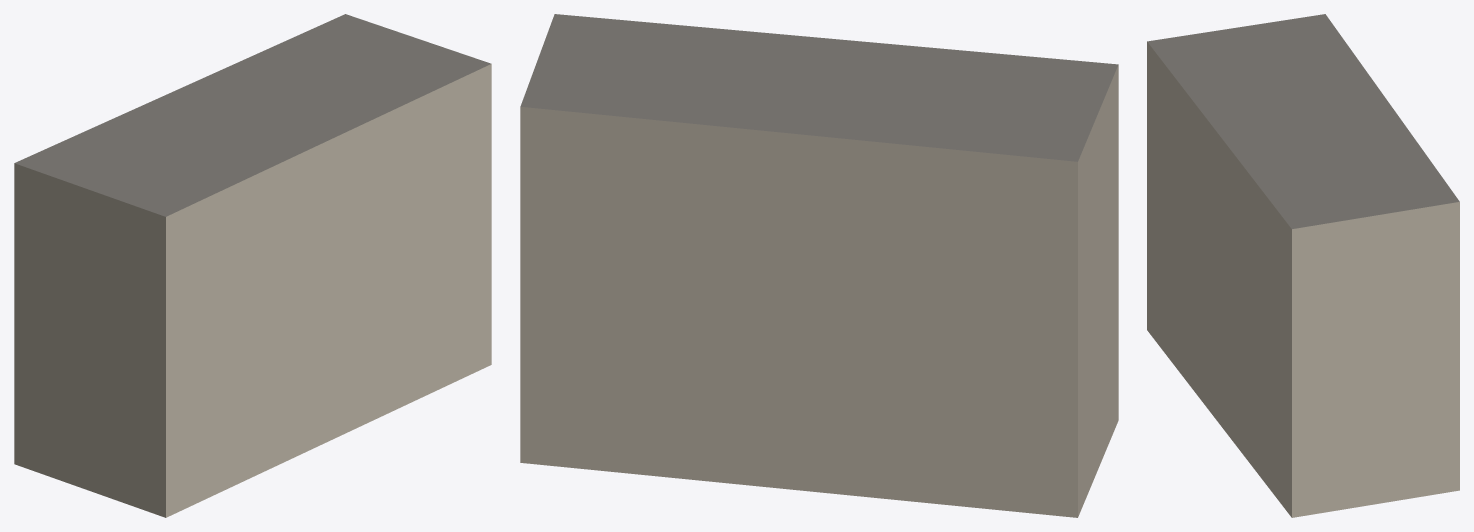
The picture shows the model from 3 angles, left to right: view 1: azimuth 30°, elevation 25°; view 2: azimuth 150°, elevation 25°; view 3: azimuth 270°, elevation 25°; orthographic projection. The views are drawn at different scales.
Visible parts, largest first — view 1: HP-w505650488; view 2: HP-w505650488; view 3: HP-w505650488.
Part boxes in pixels (bbox=[...]): HP-w505650488: bbox=[14, 14, 491, 517]; HP-w505650488: bbox=[520, 14, 1118, 517]; HP-w505650488: bbox=[1147, 14, 1459, 517].
Bounding box in the file's own units: 28.78 × 18 × 17.67.
